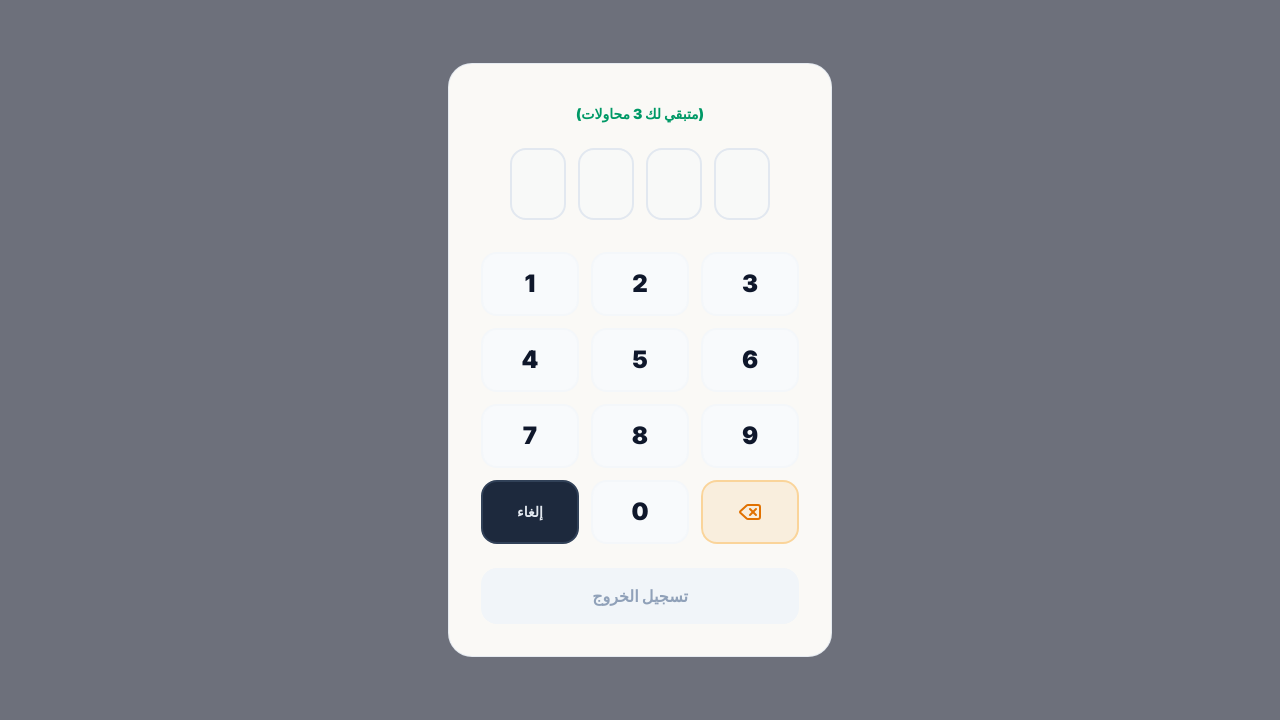
Test case: v165 — Logout Admin PIN Verification & Modal Isolation › 2. Rejects logout and displays error message when wrong PIN is entered
Note: Enter wrong PIN: 1, 2, 3, 4
Step 1. Click the button "1" → click(530, 284), box [481,252,579,316]
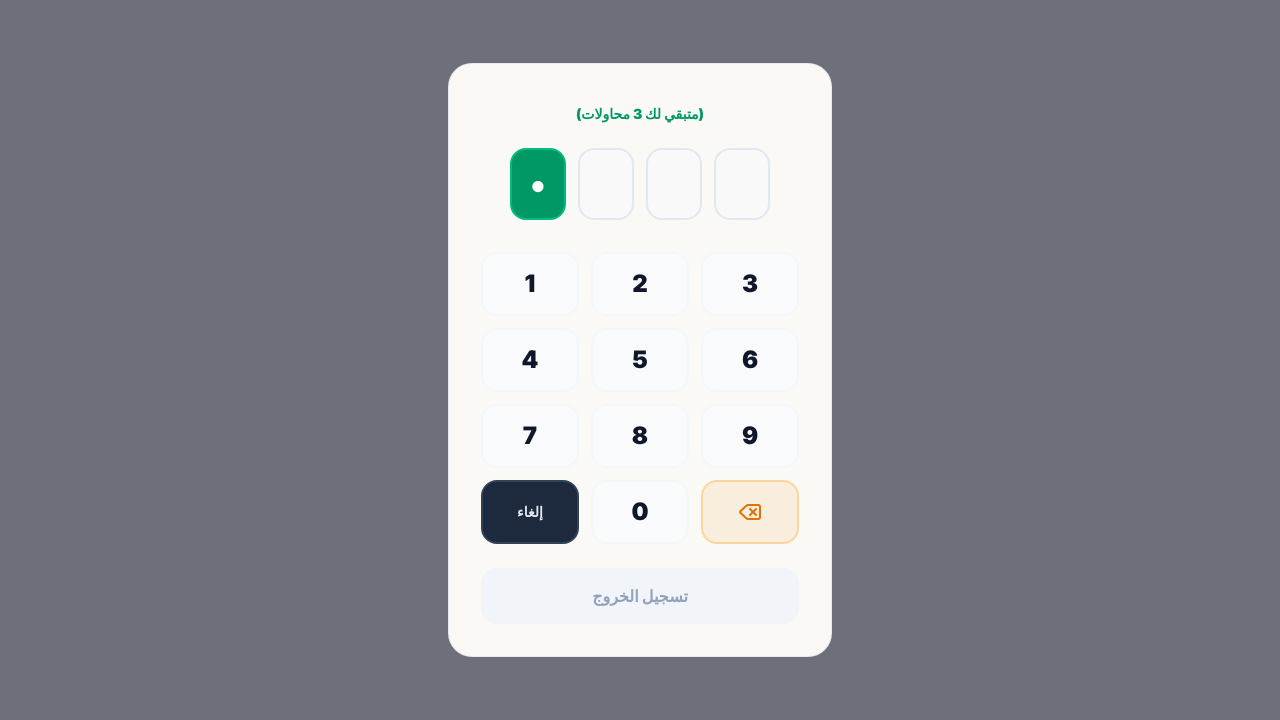
Step 2. Click the button "2" → click(640, 284), box [591,252,689,316]
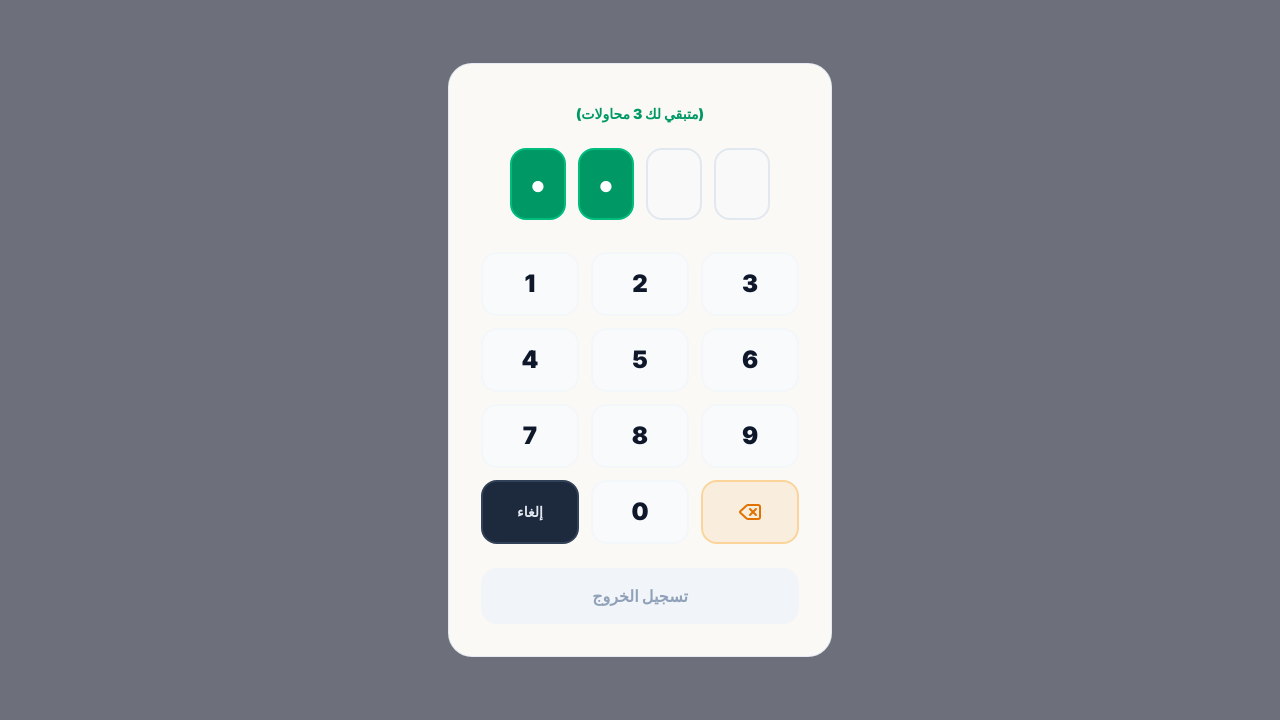
Step 3. Click the button "3" → click(750, 284), box [701,252,799,316]
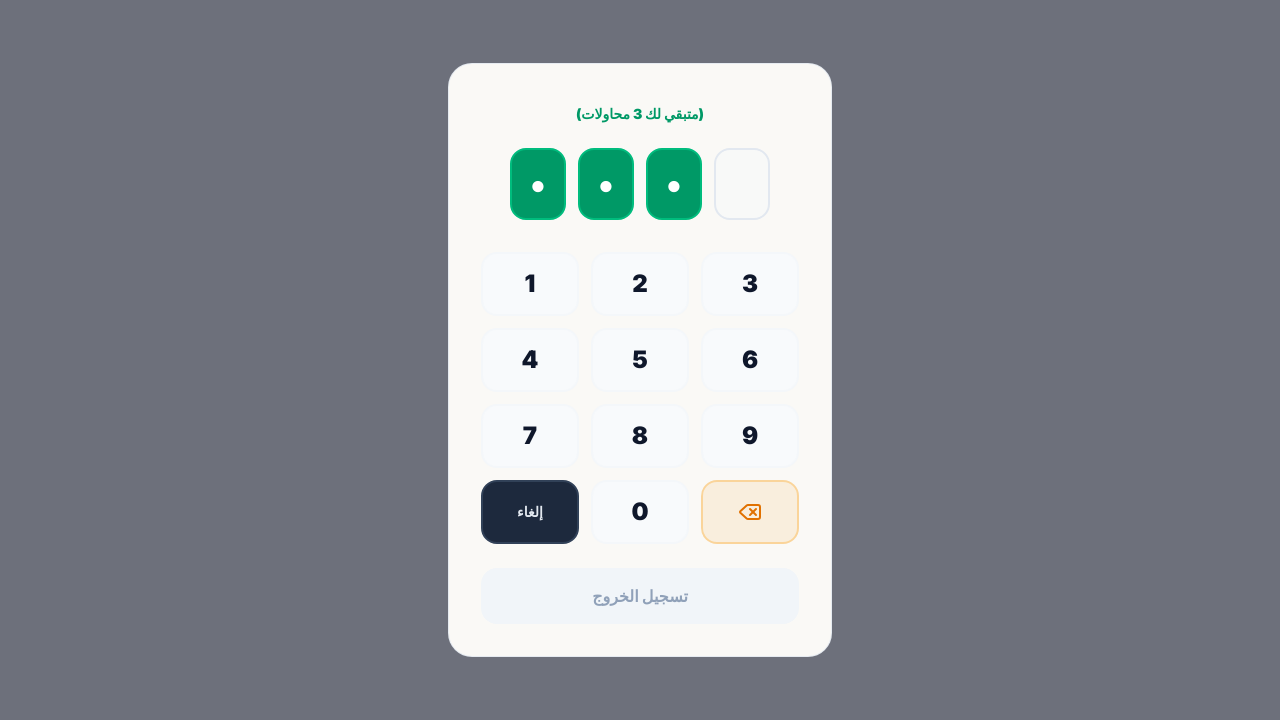
Step 4. Click the button "4" → click(530, 360), box [481,328,579,392]
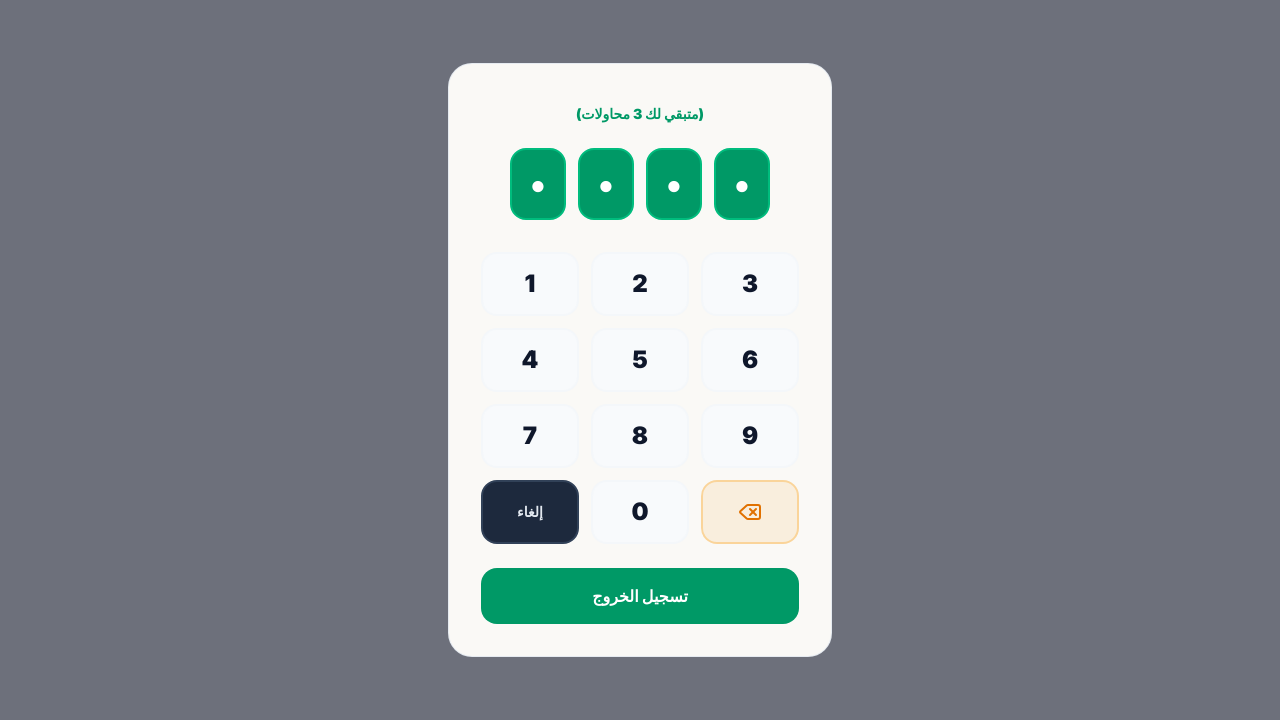
Step 5. Click the button "تسجيل الخروج" → click(640, 596), box [481,568,799,624]
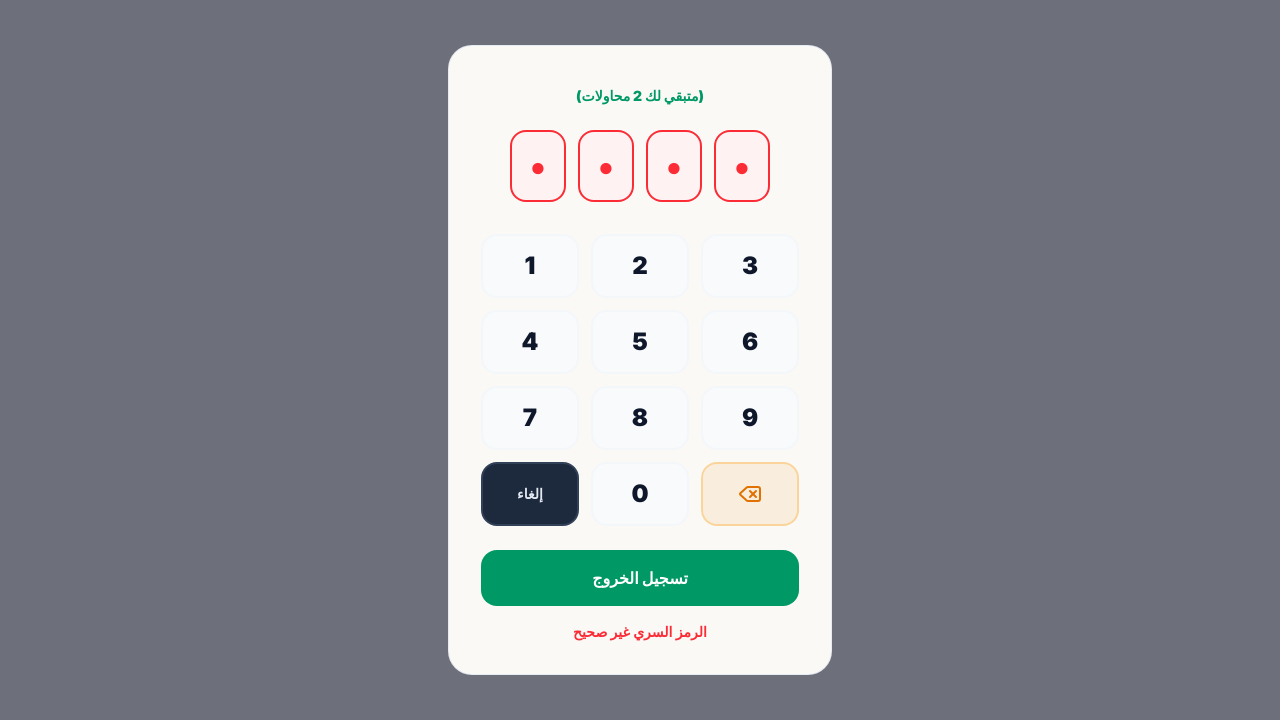
Expected: the text "الرمز السري غير صحيح" is shown, [573,623,707,640]
